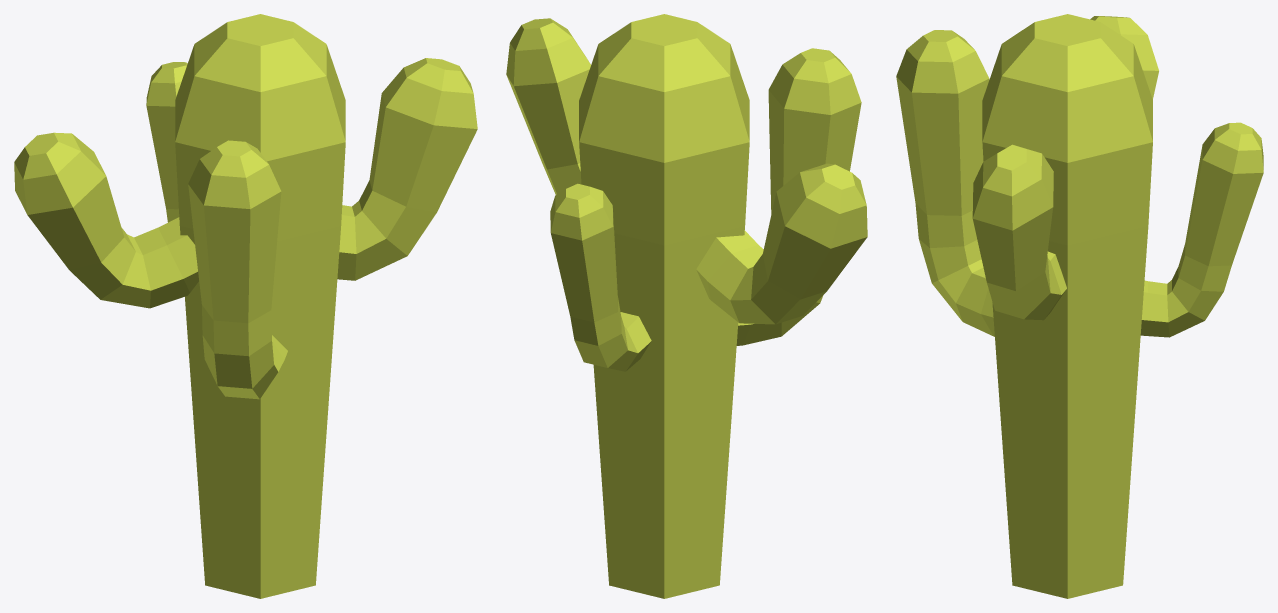
The model's file is Model_Desert_1x1A.fbx.
The picture shows the model from 3 angles, left to right: view 1: azimuth 30°, elevation 25°; view 2: azimuth 150°, elevation 25°; view 3: azimuth 270°, elevation 25°; orthographic projection.
Visible parts, largest first — view 1: Model_Frost_1x1A; view 2: Model_Frost_1x1A; view 3: Model_Frost_1x1A.
Part boxes in pixels (x1,y1,x2,y2): Model_Frost_1x1A: (14, 14, 477, 598); Model_Frost_1x1A: (506, 14, 867, 598); Model_Frost_1x1A: (896, 14, 1263, 598).
Bounding box in the file's own units: 187 × 239 × 147.
1 material, 1 textured.
